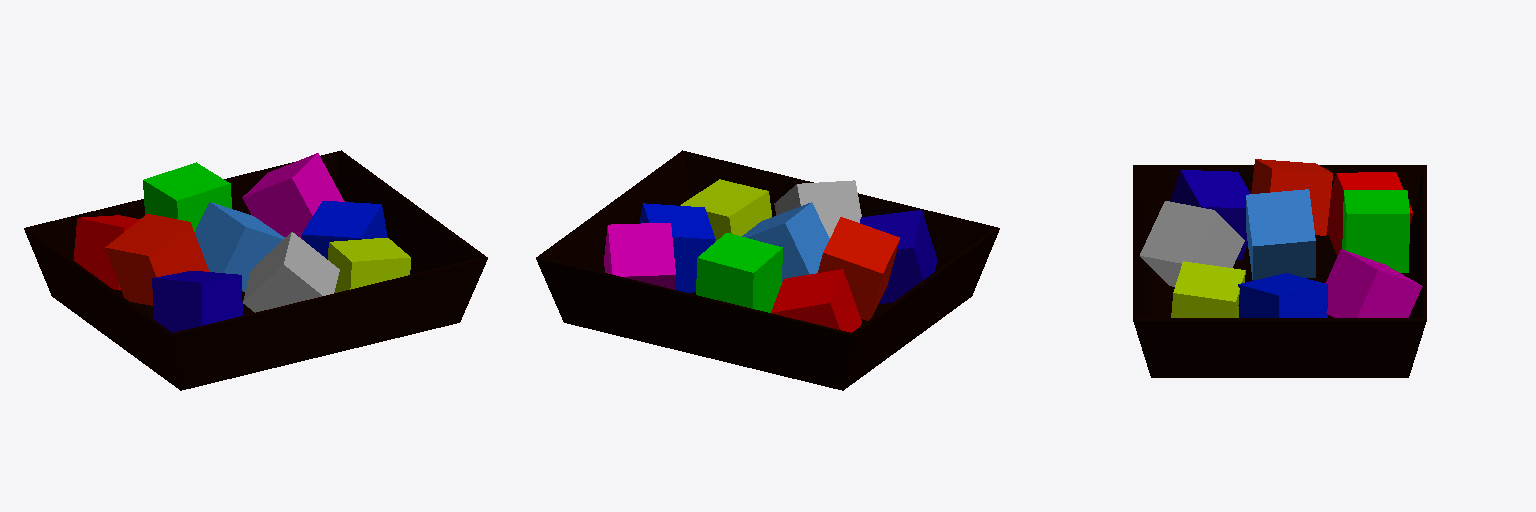
Rendered from cubes.obj.
The picture shows the model from 3 angles: view 1: azimuth 30°, elevation 25°; view 2: azimuth 150°, elevation 25°; view 3: azimuth 270°, elevation 25°; orthographic projection.
Visible parts, largest first — view 1: cajette_Cube.004, Cube.004_Cube.006, Cube.007_Cube.009, Cube.003, Cube.005_Cube.007, Cube, Cube.006_Cube.008, Cube.002, Cube.001, Cube.008_Cube.010; view 2: cajette_Cube.004, Cube.006_Cube.008, Cube.004_Cube.006, Cube.007_Cube.009, Cube.008_Cube.010, Cube.005_Cube.007, Cube, Cube.001, Cube.002, Cube.003; view 3: cajette_Cube.004, Cube, Cube.003, Cube.007_Cube.009, Cube.006_Cube.008, Cube.001, Cube.002, Cube.005_Cube.007, Cube.004_Cube.006, Cube.008_Cube.010.
Boxes of the visible parts, x1,y1,x2,y2 form: cajette_Cube.004: [24, 150, 487, 390]; Cube.004_Cube.006: [105, 214, 208, 305]; Cube.007_Cube.009: [242, 153, 344, 239]; Cube.003: [243, 232, 339, 312]; Cube.005_Cube.007: [152, 271, 242, 332]; Cube: [195, 202, 284, 291]; Cube.006_Cube.008: [143, 162, 231, 231]; Cube.002: [328, 238, 410, 292]; Cube.001: [302, 201, 387, 259]; Cube.008_Cube.010: [73, 215, 139, 289]; cajette_Cube.004: [536, 150, 999, 390]; Cube.006_Cube.008: [696, 233, 782, 312]; Cube.004_Cube.006: [818, 217, 899, 320]; Cube.007_Cube.009: [604, 223, 675, 289]; Cube.008_Cube.010: [771, 269, 861, 332]; Cube.005_Cube.007: [860, 210, 937, 303]; Cube: [742, 202, 829, 281]; Cube.001: [639, 203, 715, 292]; Cube.002: [680, 179, 771, 241]; Cube.003: [774, 180, 861, 237]; cajette_Cube.004: [1133, 165, 1426, 377]; Cube: [1246, 189, 1315, 280]; Cube.003: [1140, 201, 1244, 286]; Cube.007_Cube.009: [1325, 249, 1422, 317]; Cube.006_Cube.008: [1342, 190, 1409, 272]; Cube.001: [1238, 273, 1327, 317]; Cube.002: [1171, 261, 1245, 317]; Cube.005_Cube.007: [1170, 170, 1249, 260]; Cube.004_Cube.006: [1251, 159, 1332, 235]; Cube.008_Cube.010: [1327, 172, 1412, 255].
Bounding box in the file's own units: 25 × 8.05 × 20.